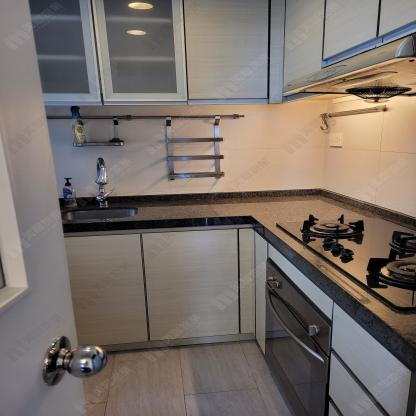Cupboard: (26, 0, 416, 107), (64, 227, 269, 354), (327, 302, 413, 416)
Exhaust Hood: (282, 32, 416, 102)
Faucet: (87, 155, 117, 207)
Oven: (263, 259, 333, 416)
Sink: (61, 206, 140, 223)
Stove: (276, 214, 416, 308)
